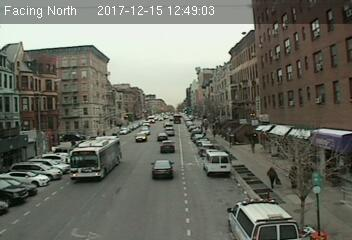bus: (68, 134, 121, 182)
car: (149, 159, 176, 179), (159, 141, 175, 153), (133, 133, 148, 142), (165, 127, 174, 136), (156, 133, 167, 140)
pedestrian: (266, 166, 280, 192)
police: (227, 197, 301, 240)
truck: (203, 151, 230, 174)
